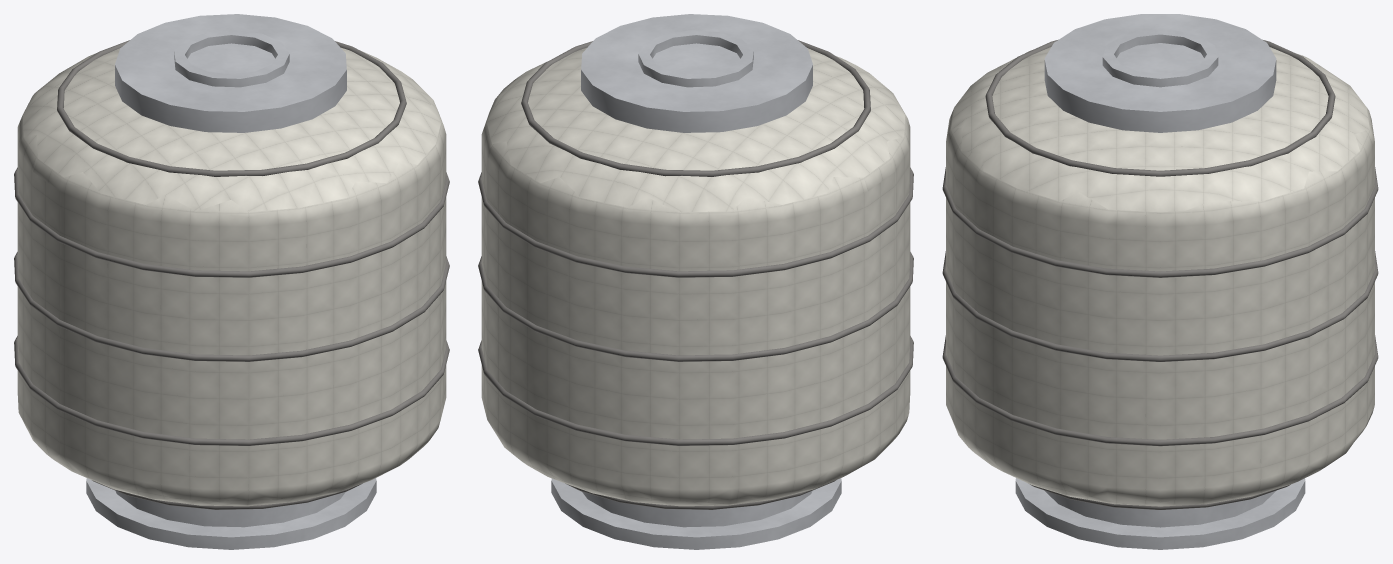
Rendered from station01_beam_deployed.glb.
3 renders of one model, left to right at view 1: azimuth 30°, elevation 25°; view 2: azimuth 150°, elevation 25°; view 3: azimuth 270°, elevation 25°, orthographic.
Visible parts, largest first — view 1: softgoods, forward_bulkhead, restraint_straps, aft_bulkhead; view 2: softgoods, forward_bulkhead, restraint_straps, aft_bulkhead; view 3: softgoods, forward_bulkhead, restraint_straps, aft_bulkhead.
Boxes of the visible parts, x1,y1,x2,y2 form: softgoods: (17,47,446,506); forward_bulkhead: (115,14,346,132); restraint_straps: (14,40,449,509); aft_bulkhead: (86,478,376,549); softgoods: (481,47,910,506); forward_bulkhead: (581,14,812,132); restraint_straps: (478,40,913,509); aft_bulkhead: (551,478,841,549); softgoods: (946,47,1374,506); forward_bulkhead: (1044,14,1276,132); restraint_straps: (942,39,1378,509); aft_bulkhead: (1015,478,1305,549).
Size of the model in its own units: 3.76 by 4.13 by 3.76.
3 materials, 3 textured.
